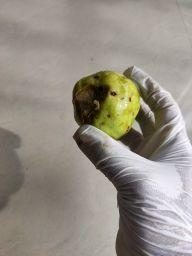guava: (73, 68, 141, 142)
